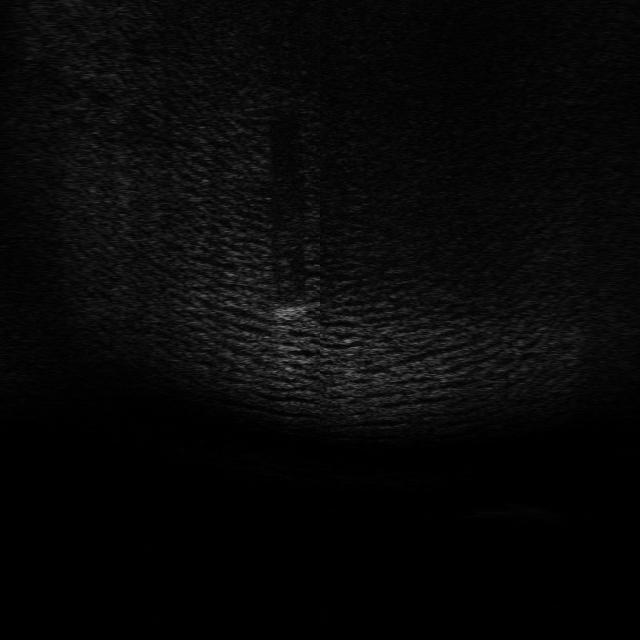cube: (270, 303, 310, 325)
